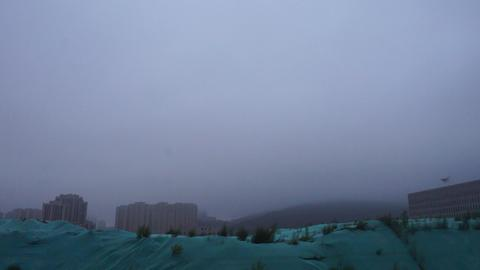UAV: (440, 178, 449, 182)
